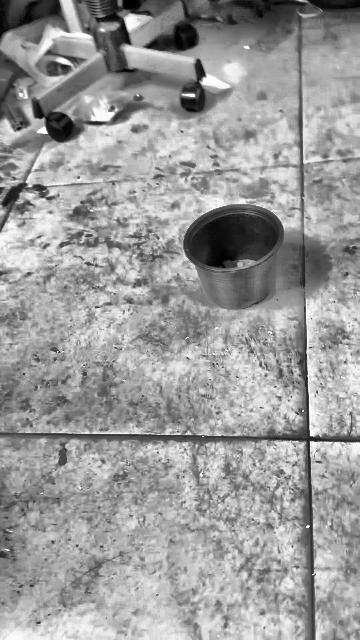pot: (183, 204, 283, 309)
